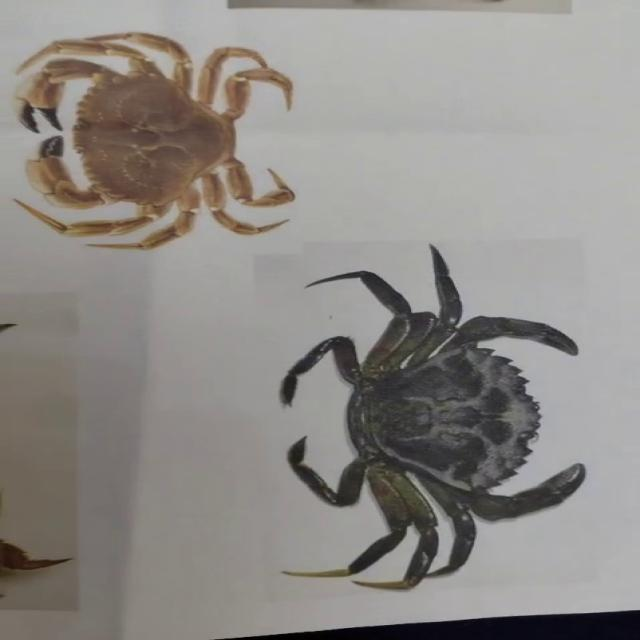egc: (280, 245, 585, 590)
